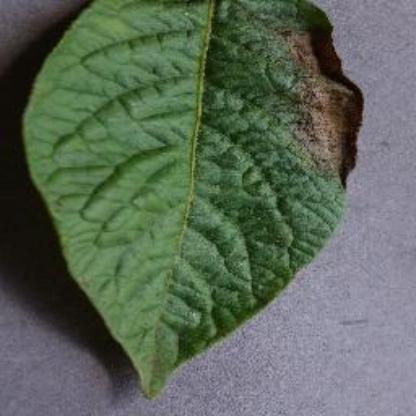Late-Blight: (13, 0, 373, 404)
